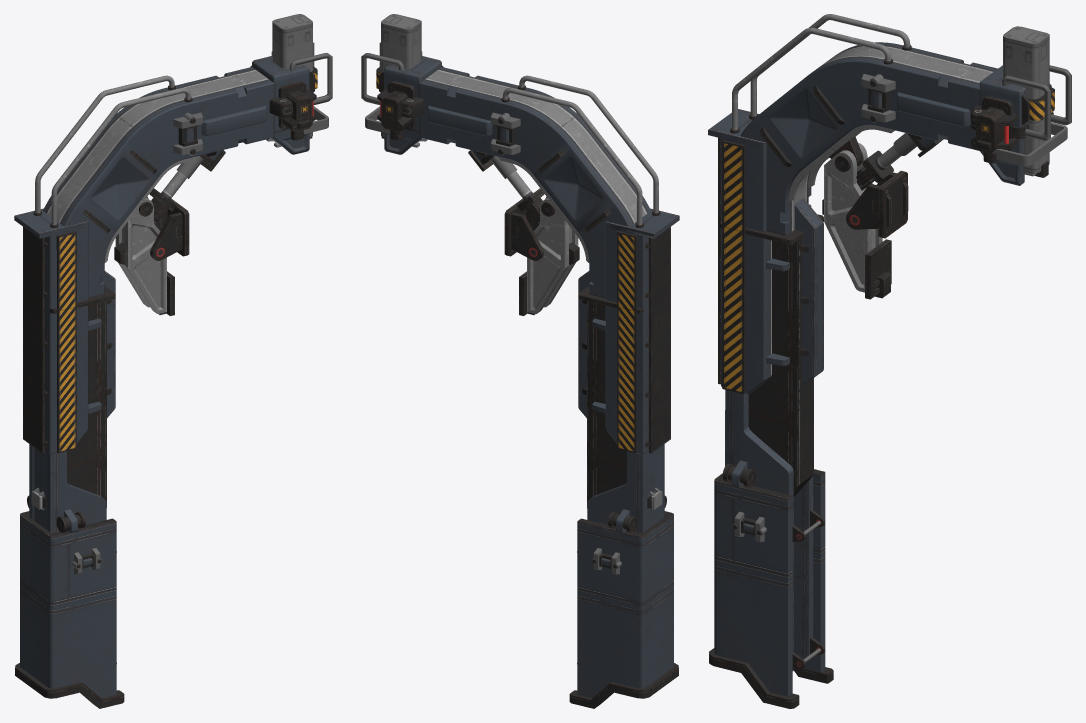
File: Crane_2B_L0.fbx
3 renders of one model, left to right at view 1: azimuth 30°, elevation 25°; view 2: azimuth 150°, elevation 25°; view 3: azimuth 330°, elevation 25°, orthographic. The views are drawn at different scales.
Visible parts, largest first — view 1: Crane_2B_L0; view 2: Crane_2B_L0; view 3: Crane_2B_L0.
Boxes of the visible parts, x1=… form: Crane_2B_L0: x1=14, y1=14, x2=332, y2=708; Crane_2B_L0: x1=361, y1=14, x2=679, y2=708; Crane_2B_L0: x1=708, y1=14, x2=1071, y2=708.
Bounding box in the file's own units: 369 × 741 × 105.
